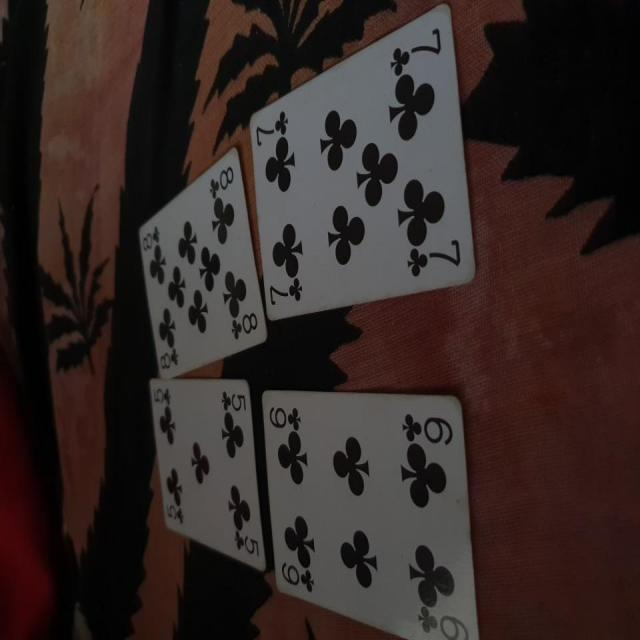5 Trefoils: (148, 375, 269, 574)
6 Trefoils: (260, 385, 477, 638)
7 Trefoils: (246, 1, 479, 322)
8 Trefoils: (137, 146, 269, 378)
